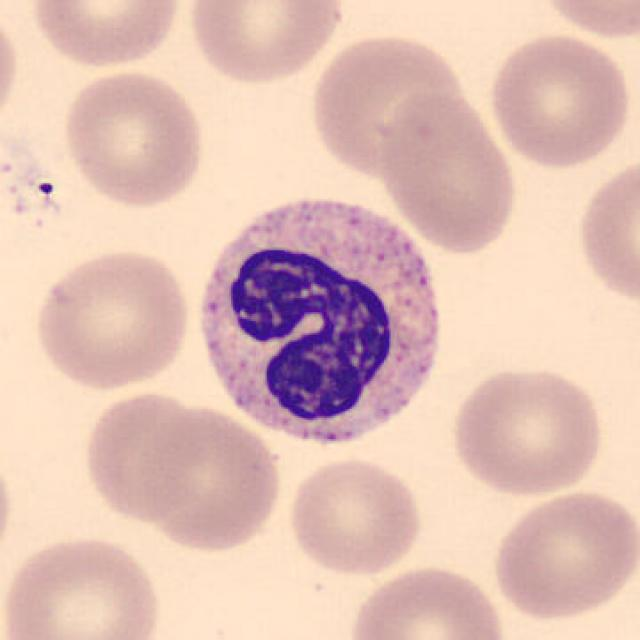Neutrophil: (187, 185, 455, 462)
RBC: (28, 243, 194, 393), (379, 85, 521, 258), (306, 30, 469, 178), (133, 400, 284, 556), (446, 361, 608, 499), (57, 65, 210, 210), (484, 30, 634, 171), (489, 487, 636, 624), (0, 530, 167, 640), (78, 388, 210, 527), (284, 455, 426, 578), (183, 0, 349, 88), (343, 560, 510, 640), (27, 0, 185, 71), (572, 150, 640, 312), (529, 0, 638, 42), (0, 3, 23, 138), (0, 442, 18, 576)
